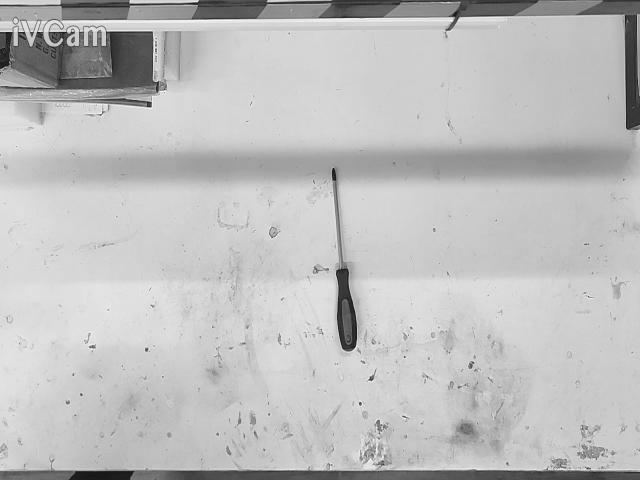Screwdriver: (332, 168, 358, 352)
